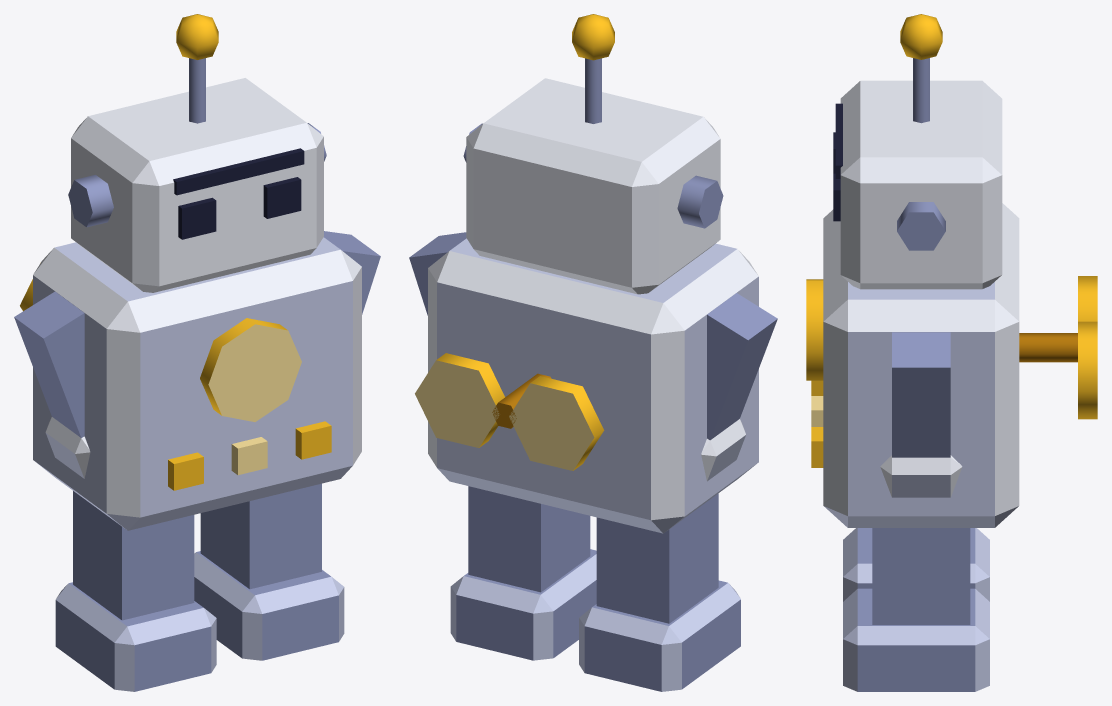
Rendered from Toy.fbx.
3 views of the same model, side by side, from view 1: azimuth 30°, elevation 25°; view 2: azimuth 150°, elevation 25°; view 3: azimuth 270°, elevation 25° (orthographic).
Parts seen in each view (by area): view 1: Toy; view 2: Toy; view 3: Toy.
Boxes of the visible parts, x1,y1,x2,y2 form: Toy: (14, 14, 380, 691); Toy: (409, 14, 777, 691); Toy: (806, 14, 1097, 691).
Size of the model in its own units: 1.59 by 2.8 by 1.19.
Materials: 1 (1 with a texture image).
